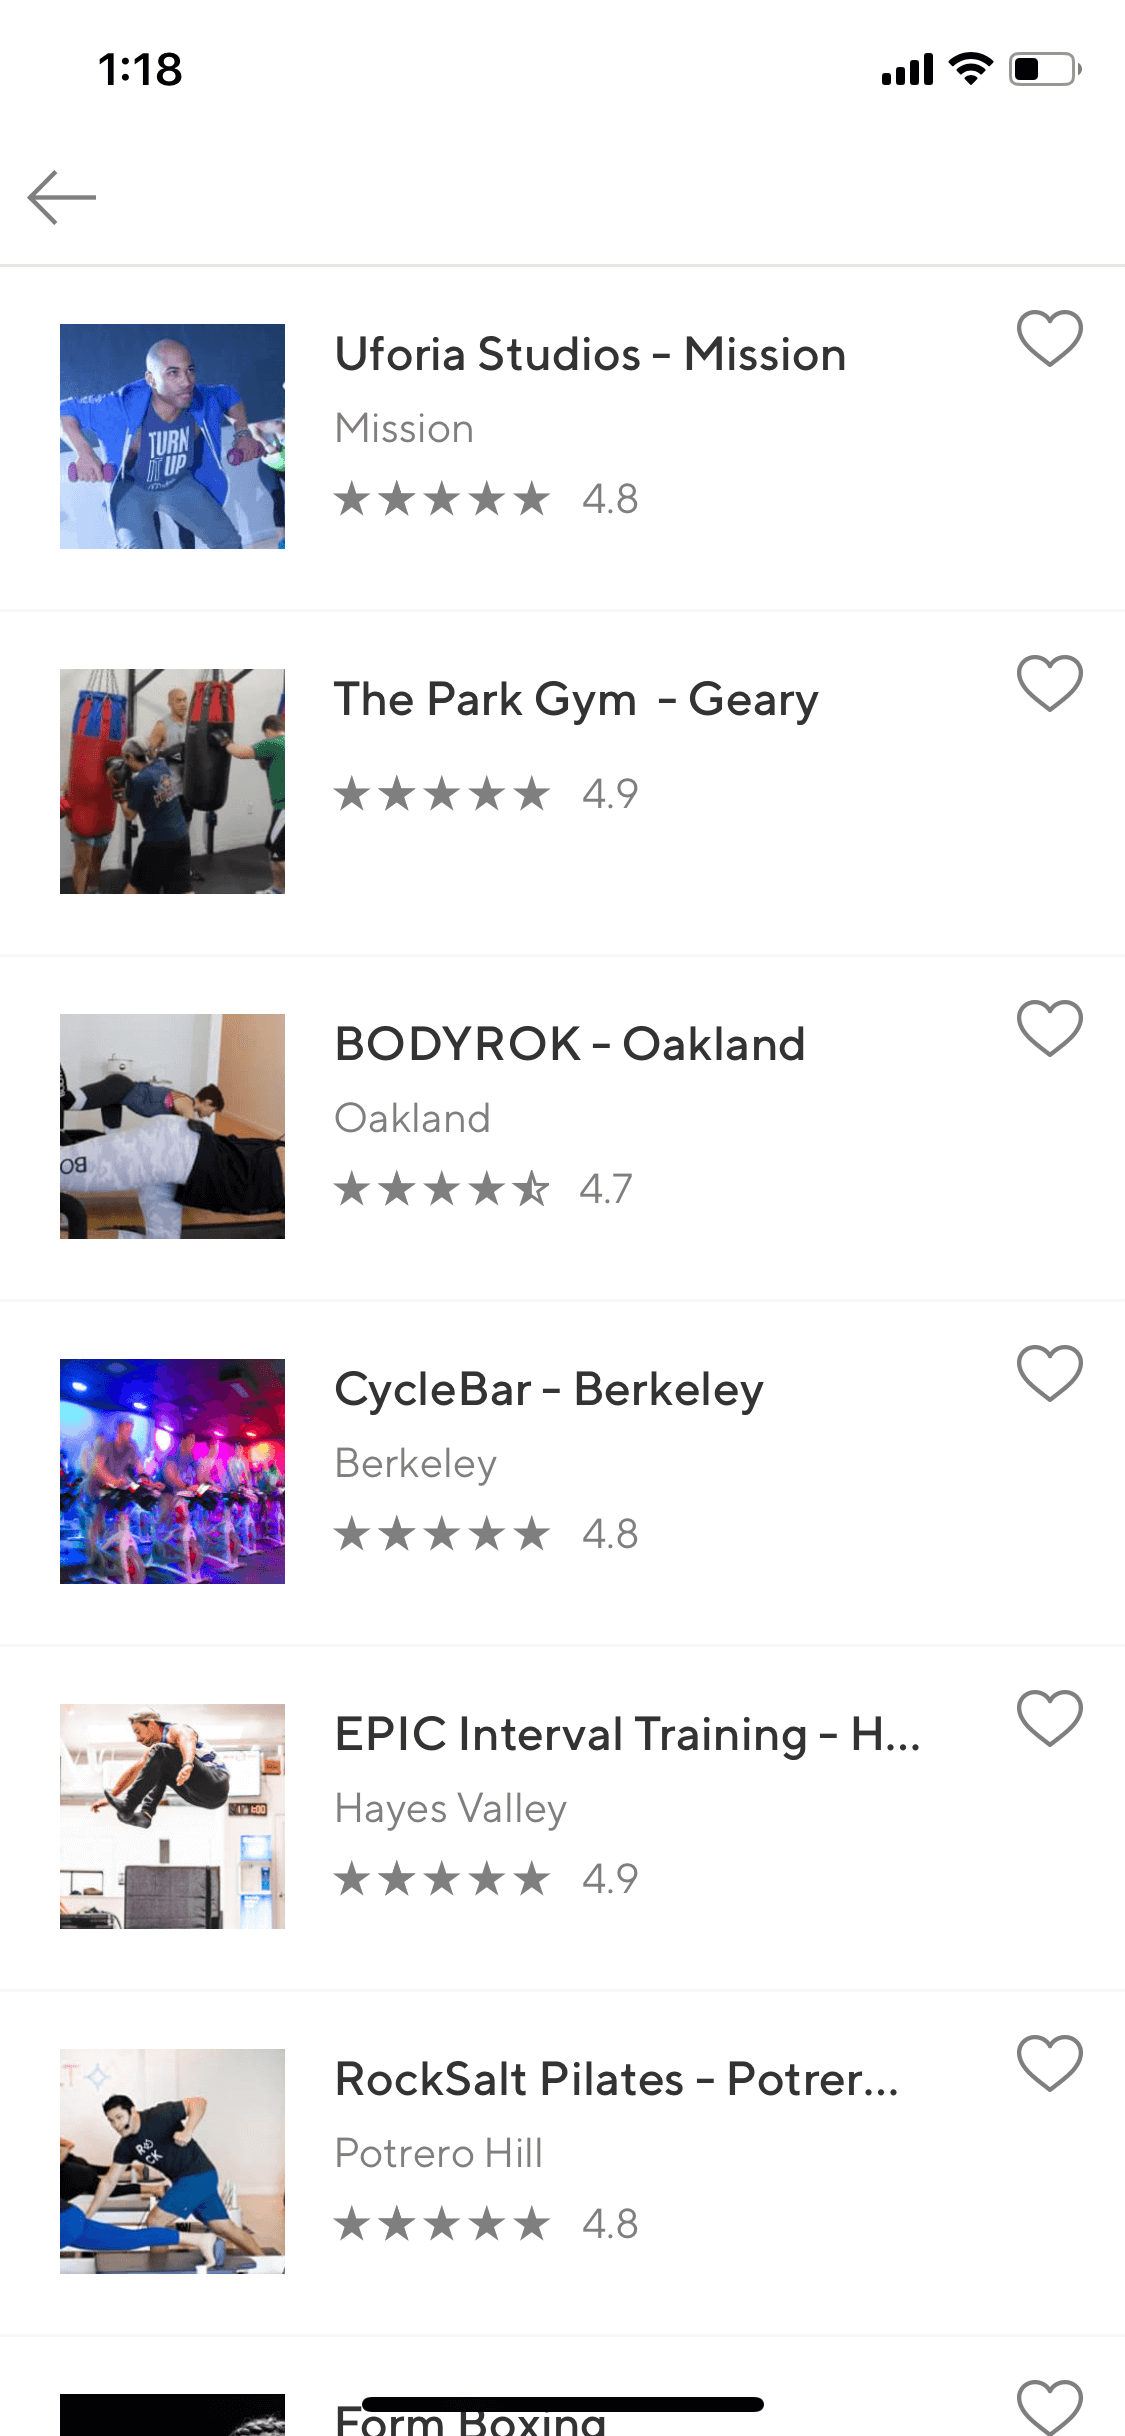Buttons: (2, 130, 127, 264), (987, 1313, 1108, 1425), (988, 980, 1108, 1091), (991, 632, 1108, 744), (990, 287, 1106, 399), (994, 2006, 1106, 2113), (994, 1655, 1106, 1760), (993, 2349, 1103, 2436)
Rating: (319, 1835, 656, 1926), (320, 747, 659, 833), (322, 457, 659, 541), (319, 2180, 656, 2260), (322, 1495, 657, 1569), (322, 1150, 657, 1221)
